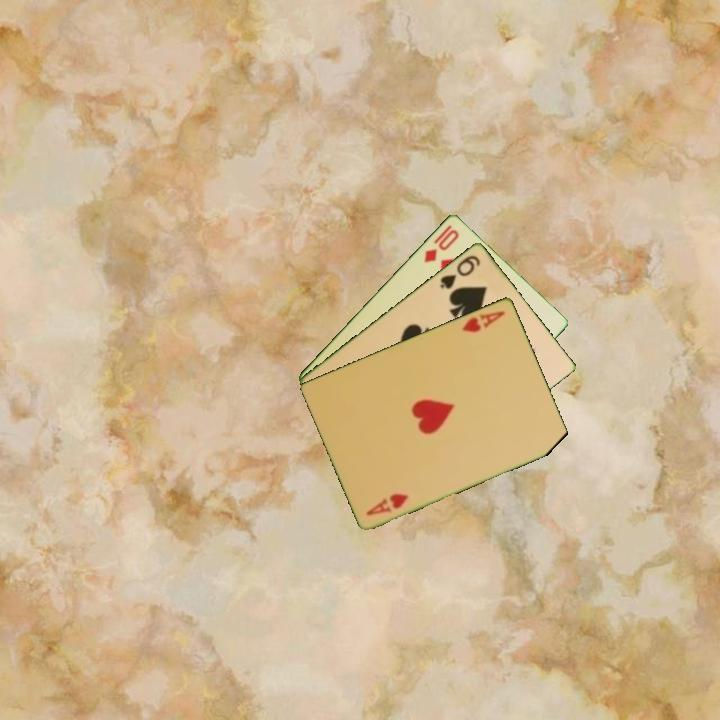10d: (420, 225, 462, 265)
6s: (436, 251, 483, 292)
Ah: (458, 307, 508, 335), (363, 489, 411, 518)
